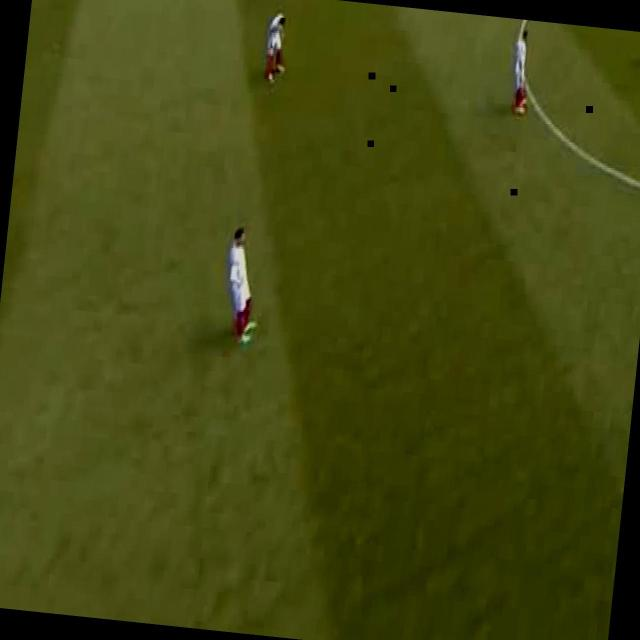player-white: (221, 222, 267, 346), (263, 11, 291, 87), (511, 27, 533, 117)
